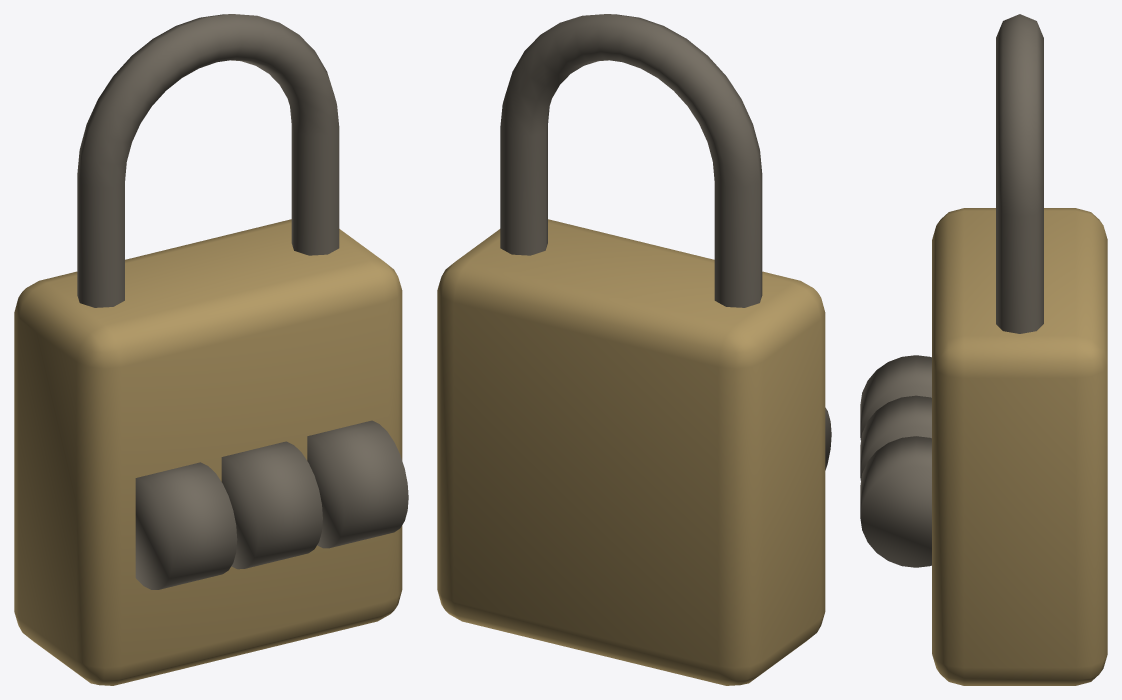
Rendered from CombinationPadlock.fbx.
3 renders of one model, left to right at view 1: azimuth 30°, elevation 25°; view 2: azimuth 150°, elevation 25°; view 3: azimuth 270°, elevation 25°, orthographic. The views are drawn at different scales.
Parts seen in each view (by area): view 1: Brass padlock body, Steel shackle, Combination wheel.001, Combination wheel.002, Combination wheel; view 2: Brass padlock body, Steel shackle; view 3: Brass padlock body, Steel shackle, Combination wheel, Combination wheel.002, Combination wheel.001.
Part boxes in pixels (<box>): Brass padlock body: <box>14,219,402,685</box>; Steel shackle: <box>77,14,339,307</box>; Combination wheel.001: <box>135,462,237,589</box>; Combination wheel.002: <box>221,441,322,569</box>; Combination wheel: <box>307,420,408,548</box>; Brass padlock body: <box>437,219,825,685</box>; Steel shackle: <box>500,14,762,307</box>; Brass padlock body: <box>932,208,1107,685</box>; Steel shackle: <box>996,14,1043,333</box>; Combination wheel: <box>860,436,931,567</box>; Combination wheel.002: <box>860,395,931,480</box>; Combination wheel.001: <box>860,355,931,439</box>.
Size of the model in its own units: 4.5 by 8.2 by 3.1.
